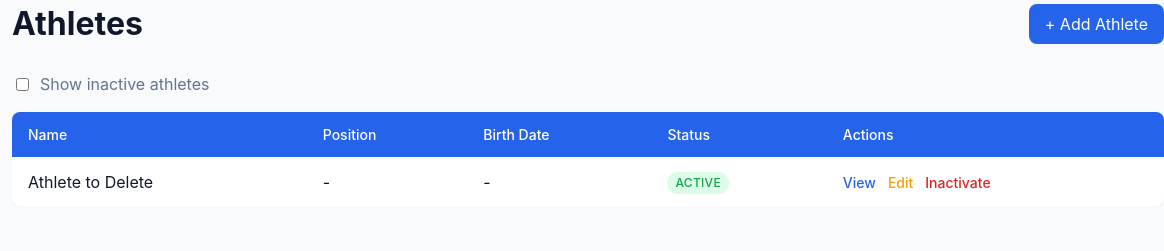
AthletesPage › inactivates athlete and removes from list when includeInactive is false
The image size is (1164, 251).
Check: the text "Athlete to Delete" is shown, box x1=12 y1=157 x2=307 y2=206
Click the button "Inactivate" at (958, 182), box x1=925 y1=174 x2=991 y2=190
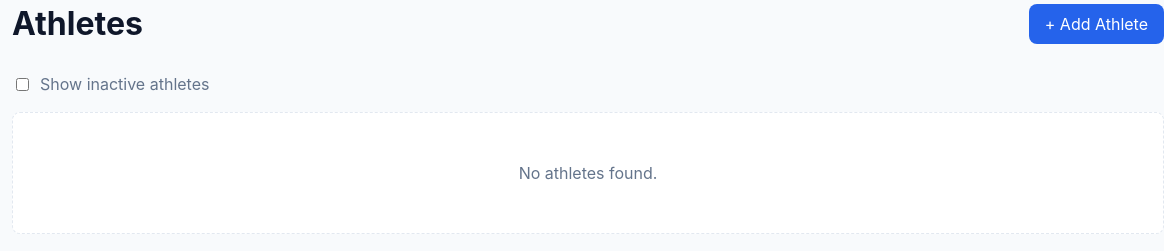
Check: the text "Athlete to Delete" is gone
Check: the text "No athletes found." is shown, box x1=519 y1=163 x2=657 y2=183
